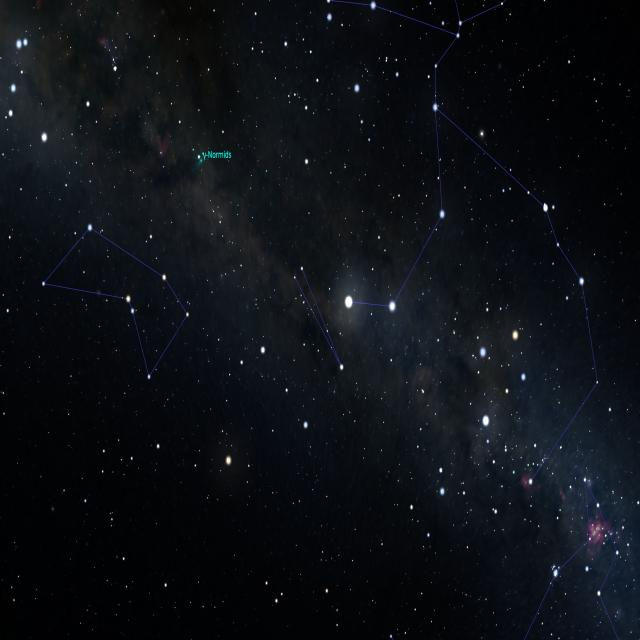Circinus: (285, 258, 346, 374)
